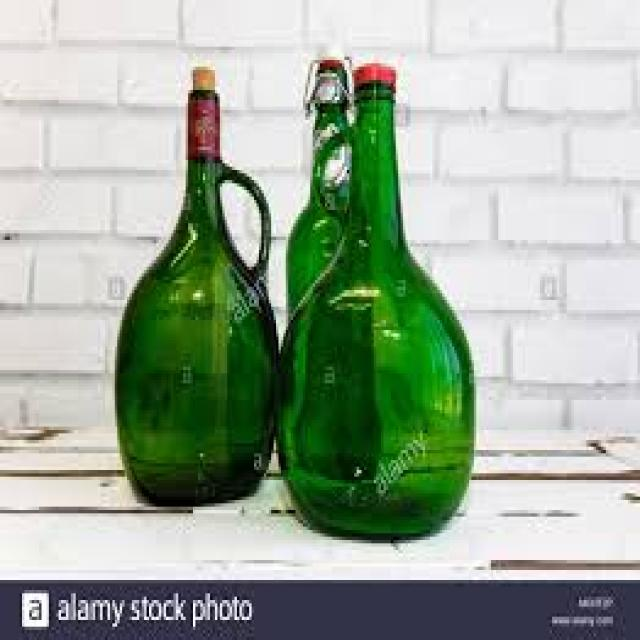glass: (269, 83, 474, 537), (115, 87, 278, 500), (286, 73, 376, 477)
metal: (349, 60, 391, 87)
plastic: (318, 53, 340, 67)
